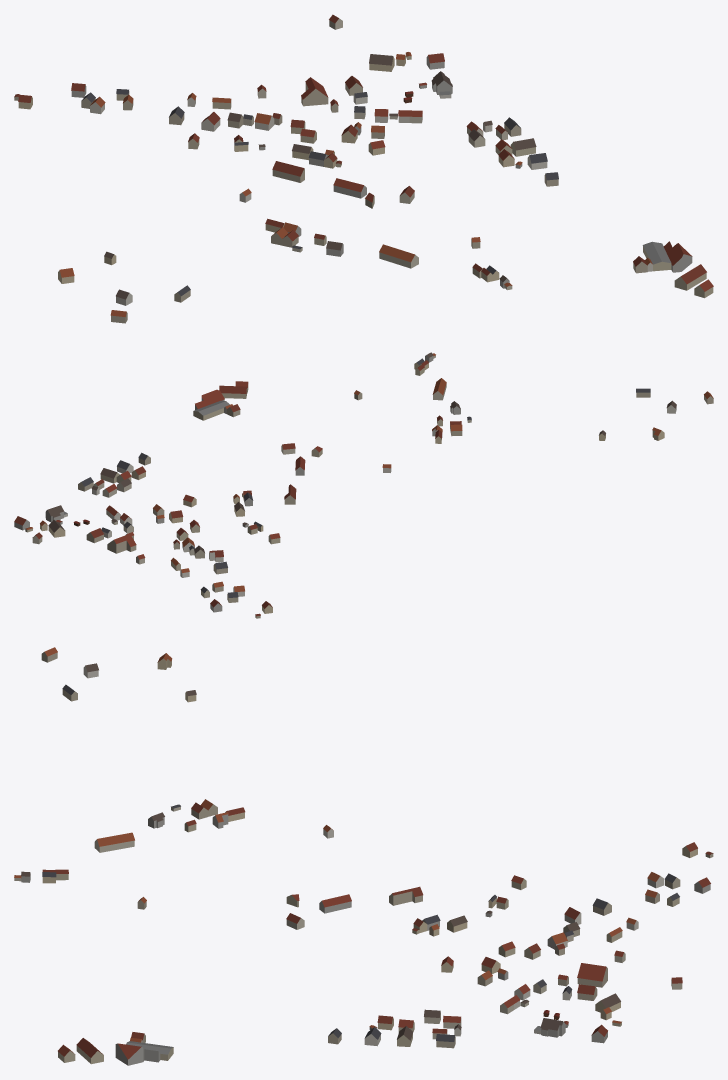
The picture shows the model from 3 angles, top to bottom: view 1: azimuth 30°, elevation 25°; view 2: azimuth 150°, elevation 25°; view 3: azimuth 270°, elevation 25°; orthographic projection. The views are drawn at different scales.
Visible parts, largest first — view 1: buildings; view 2: buildings; view 3: buildings.
Part boxes in pixels (x1,y1,x2,y2): buildings: (14, 14, 713, 323); buildings: (14, 352, 713, 618); buildings: (14, 647, 713, 1065).
Size of the model in its own units: 583 by 121 by 589.
